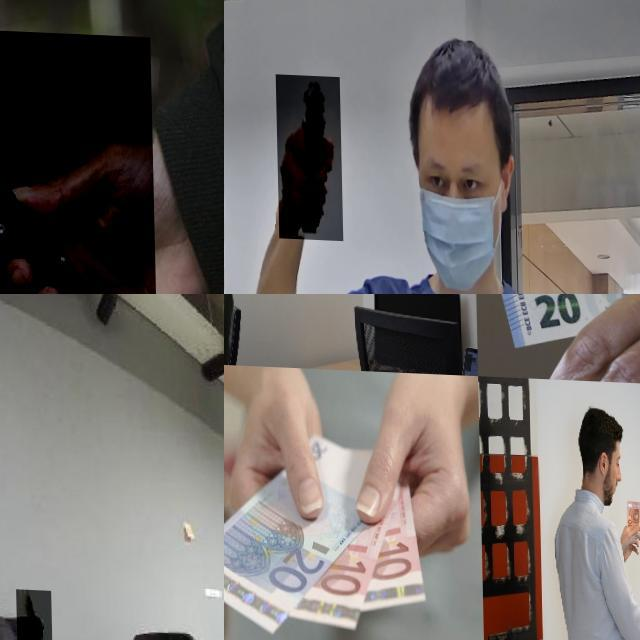-: (0, 21, 167, 294), (14, 586, 50, 640)
gun-knife-thesis - v11 Yolov5 augmented: (274, 72, 341, 238)
